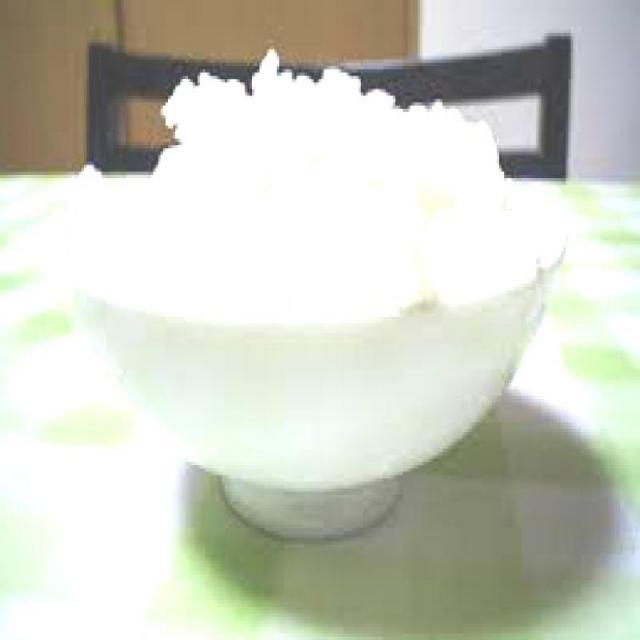rice: (66, 70, 541, 312)
